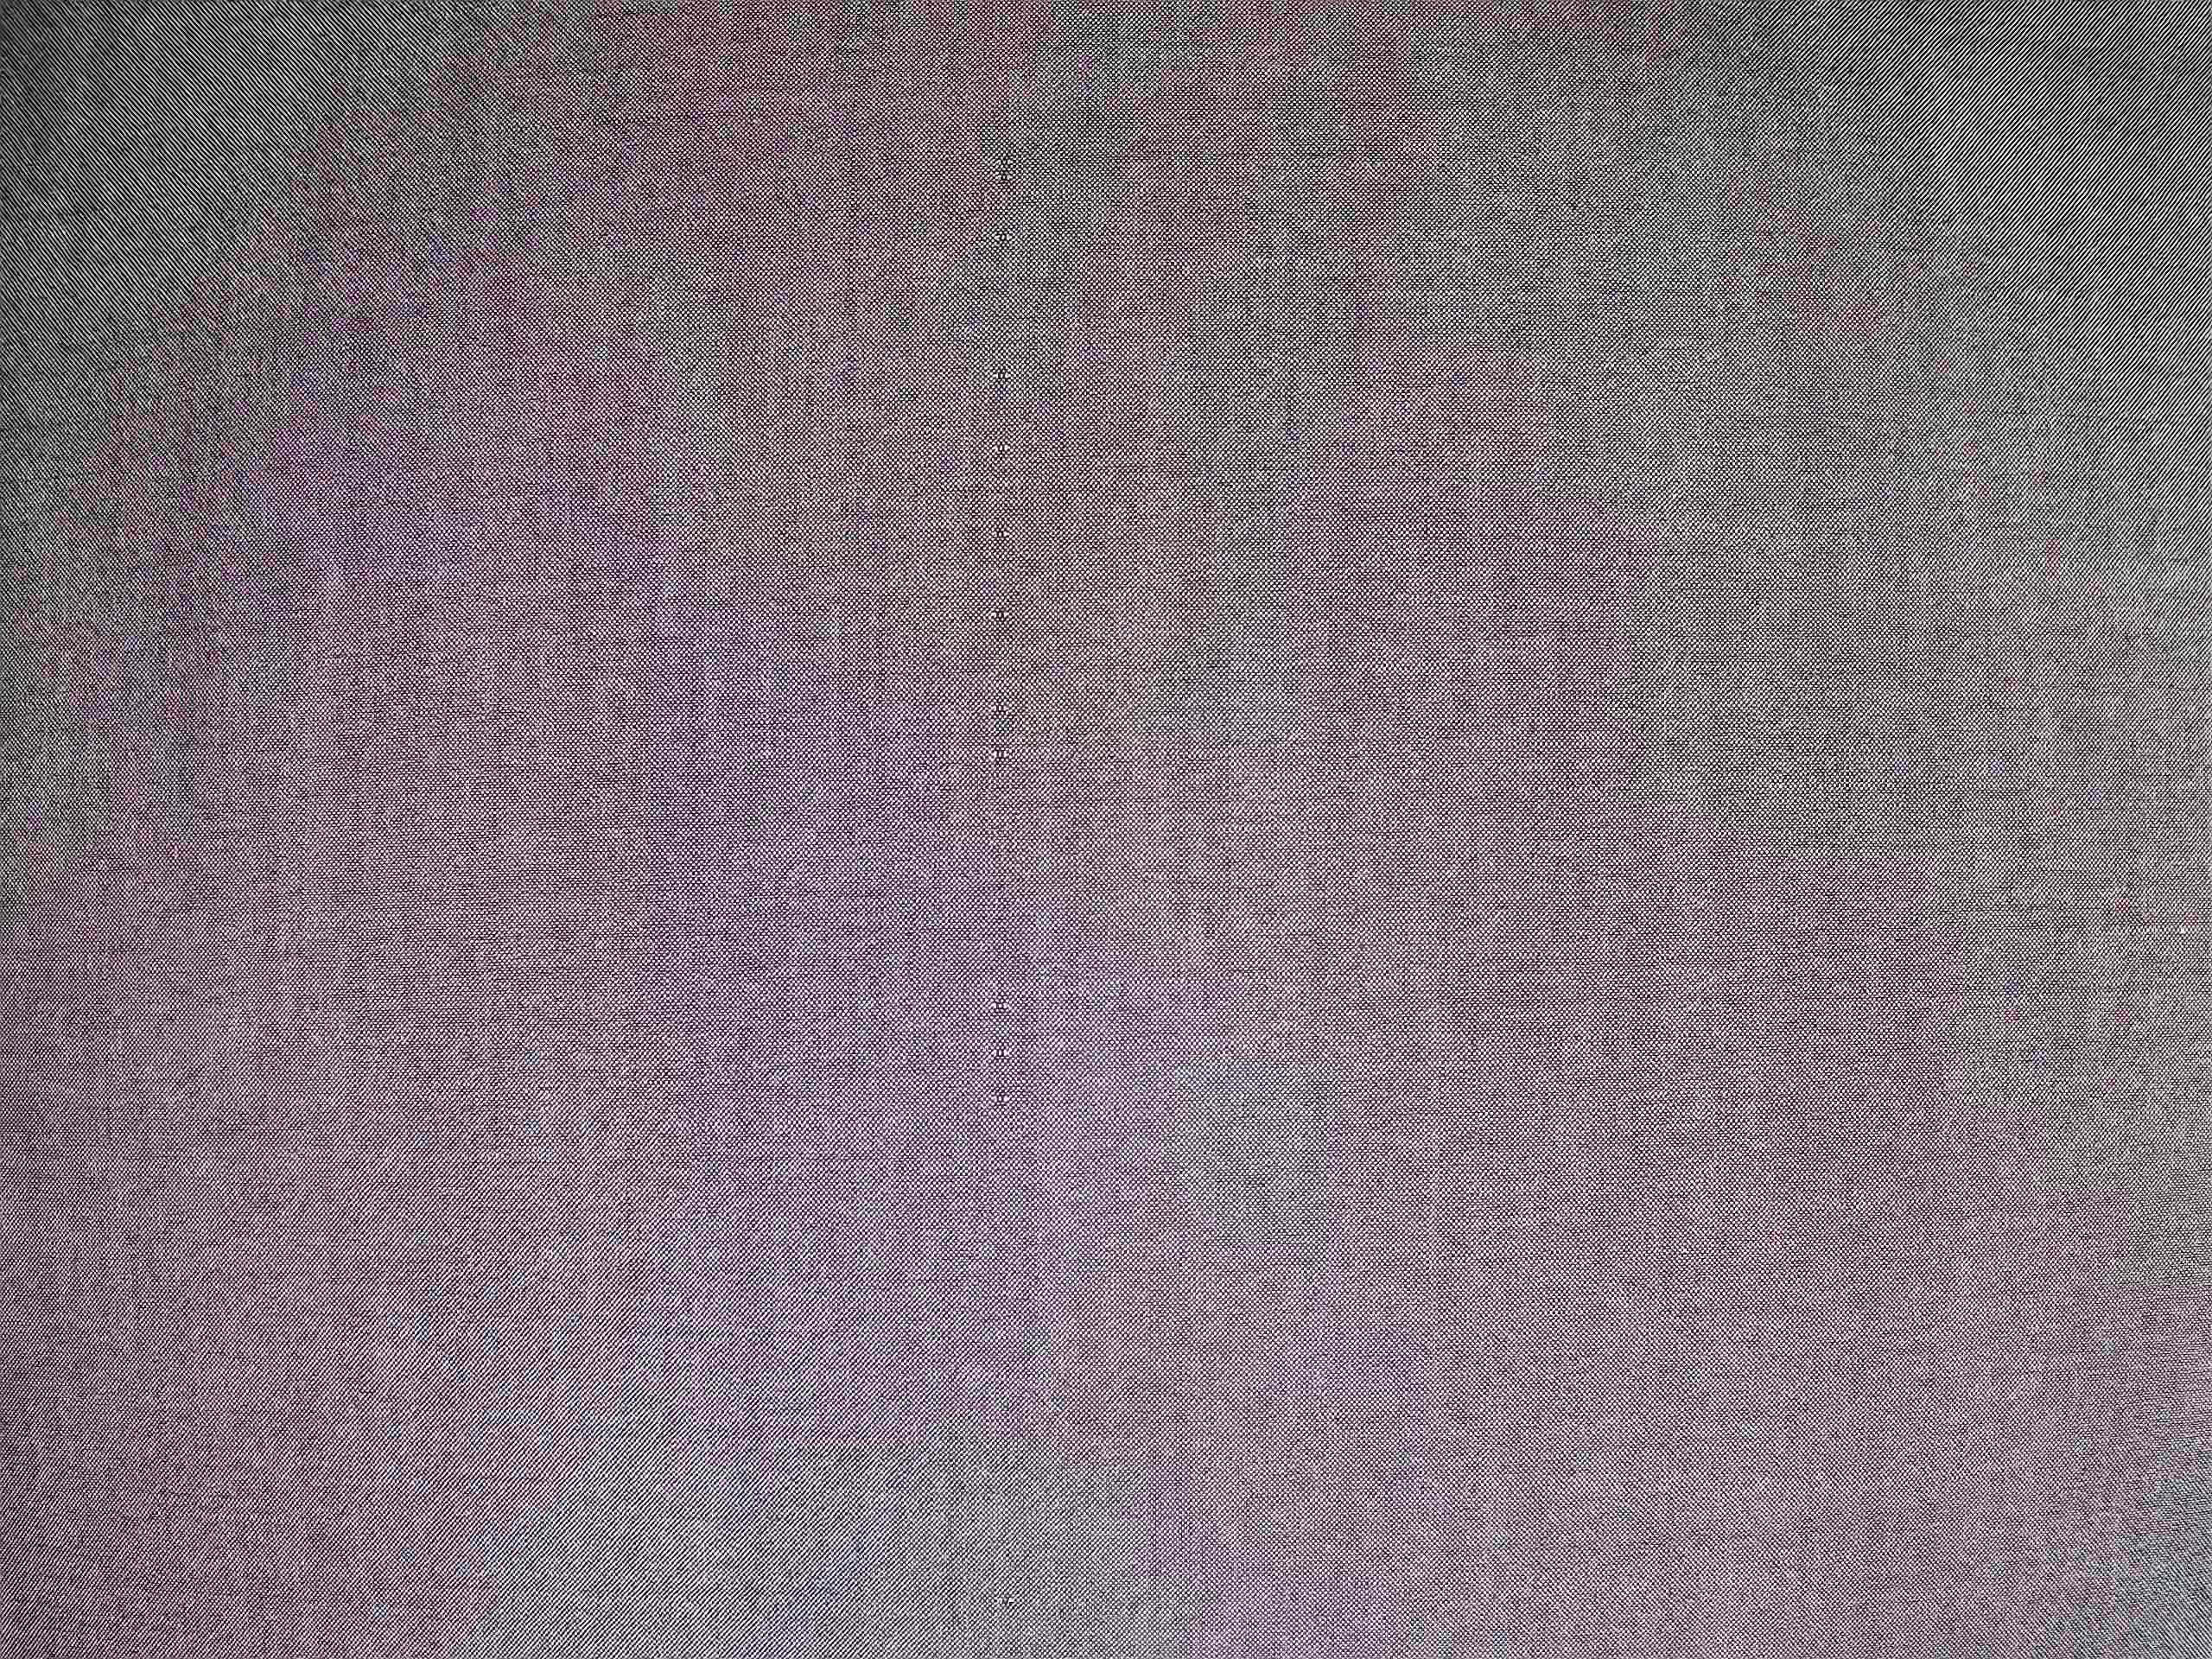jumps: (963, 141, 1049, 1147)
